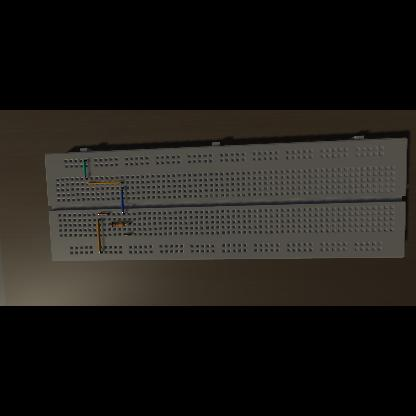breadboard: (45, 136, 407, 262)
resistor: (110, 223, 126, 227)
wire: (98, 219, 102, 253), (121, 188, 125, 214), (83, 160, 88, 180), (86, 182, 124, 184), (98, 213, 110, 215), (124, 234, 132, 236), (126, 223, 130, 224), (109, 224, 111, 226)
